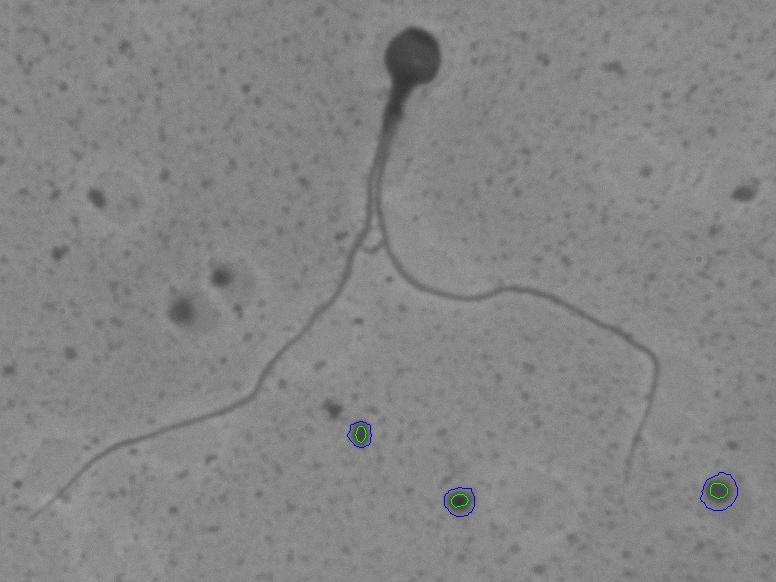Abnormal: (13, 8, 679, 552)
